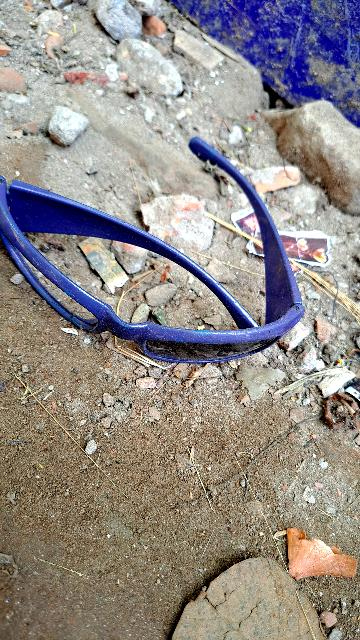hardplastic: (1, 152, 312, 359)
